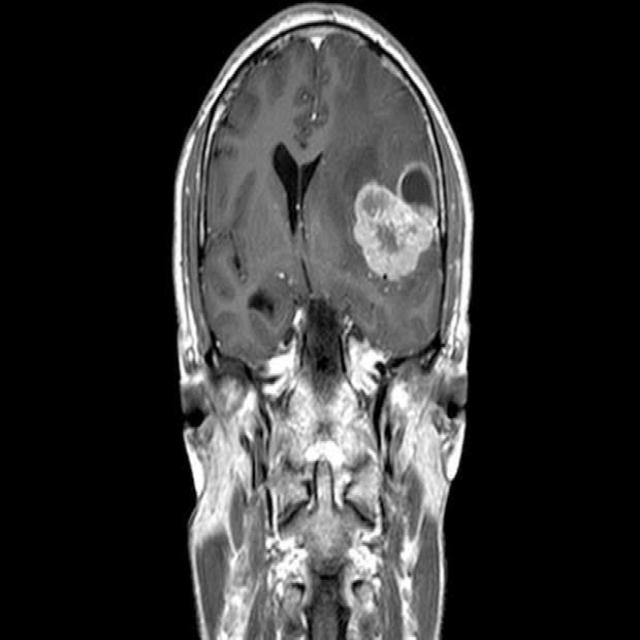glioma: (351, 162, 444, 280)
